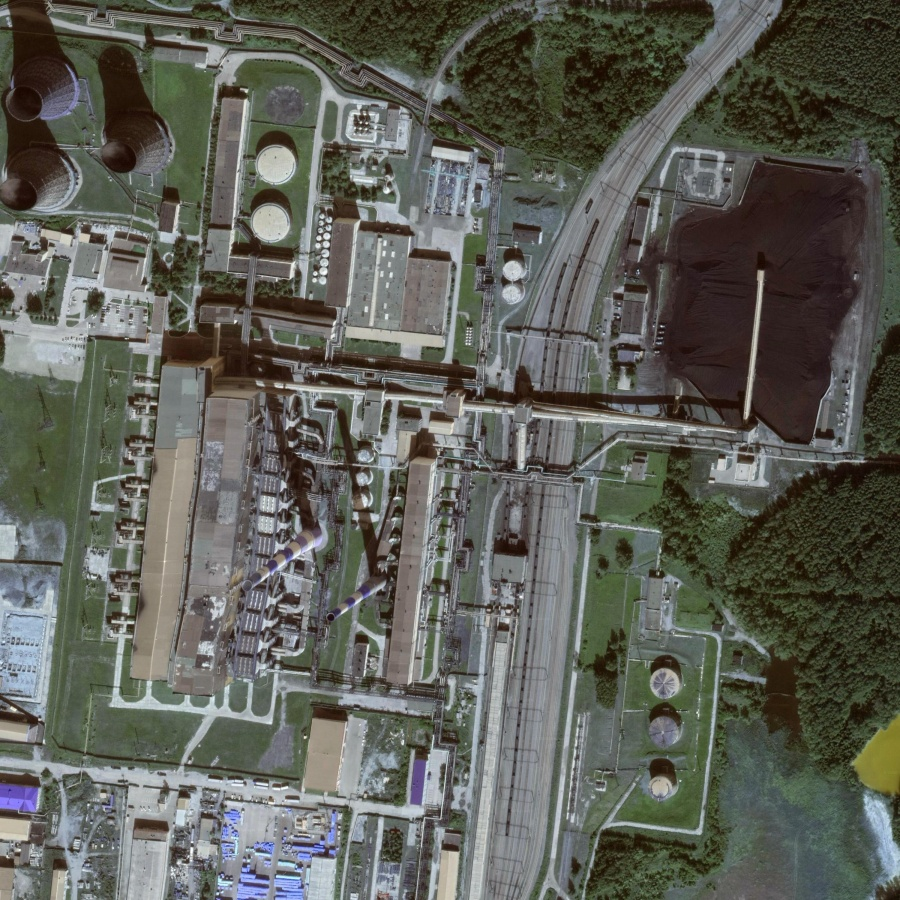PowerPlant: (597, 140, 867, 454), (212, 324, 465, 652), (571, 641, 719, 816)
